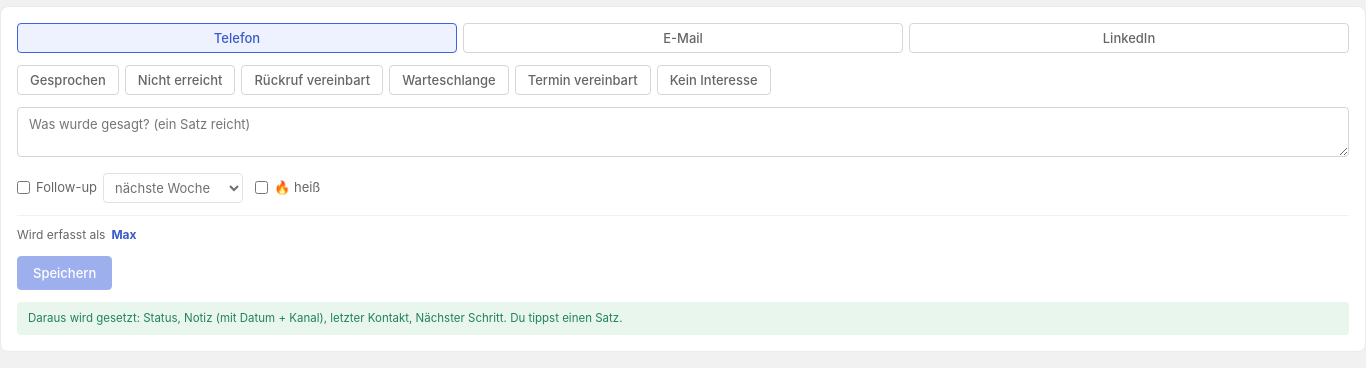
Test: LogForm › clears a previously selected outcome when the channel changes (LOG-01)
This screenshot has width=1366, height=368.
Step 1. Click the button "Gesprochen" → (68, 80), box [17,65,119,95]
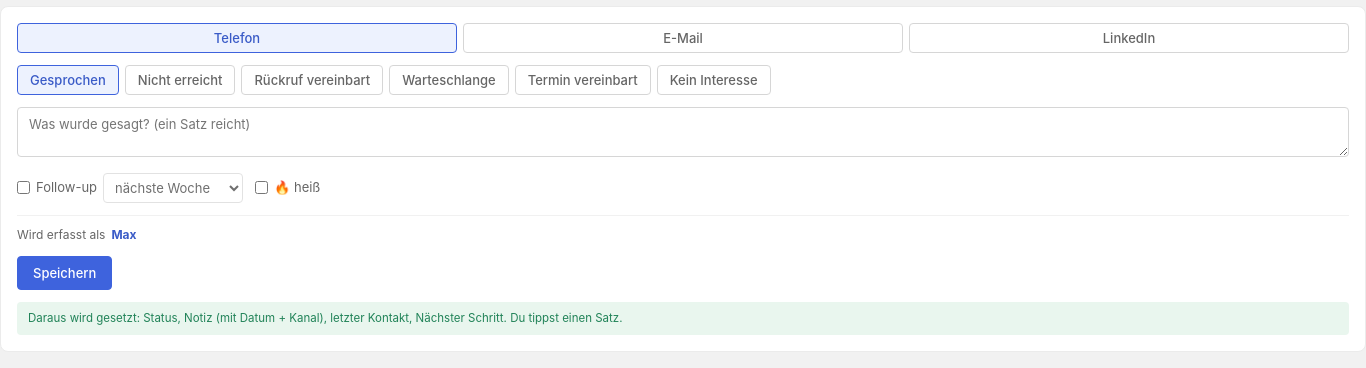
Expected: the button "Gesprochen" has class "s", [17,65,119,95]
// Switch channel — outcome selection resets, Speichern disabled again.
Step 2. Click the button "E-Mail" → (683, 38), box [463,23,903,53]
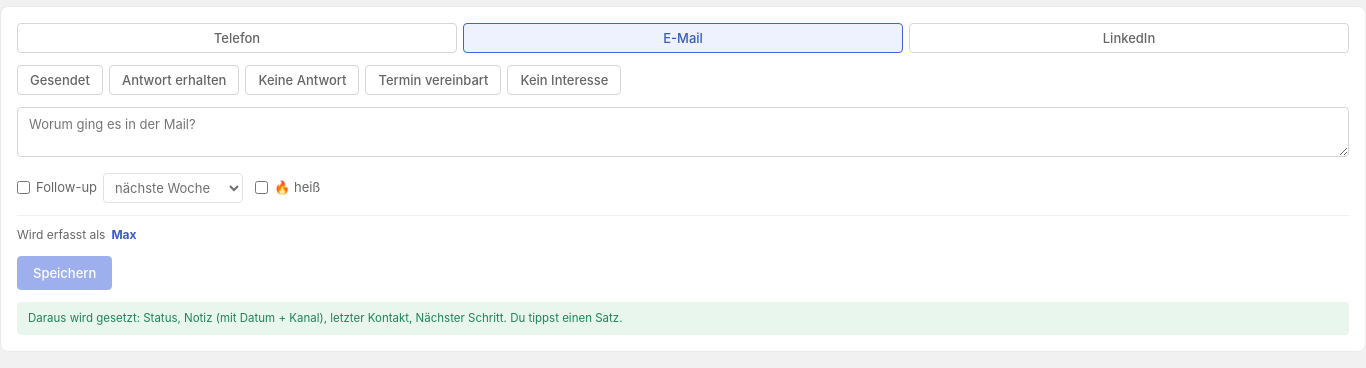
Expected: the button "Speichern" is disabled, [17,256,112,290]
